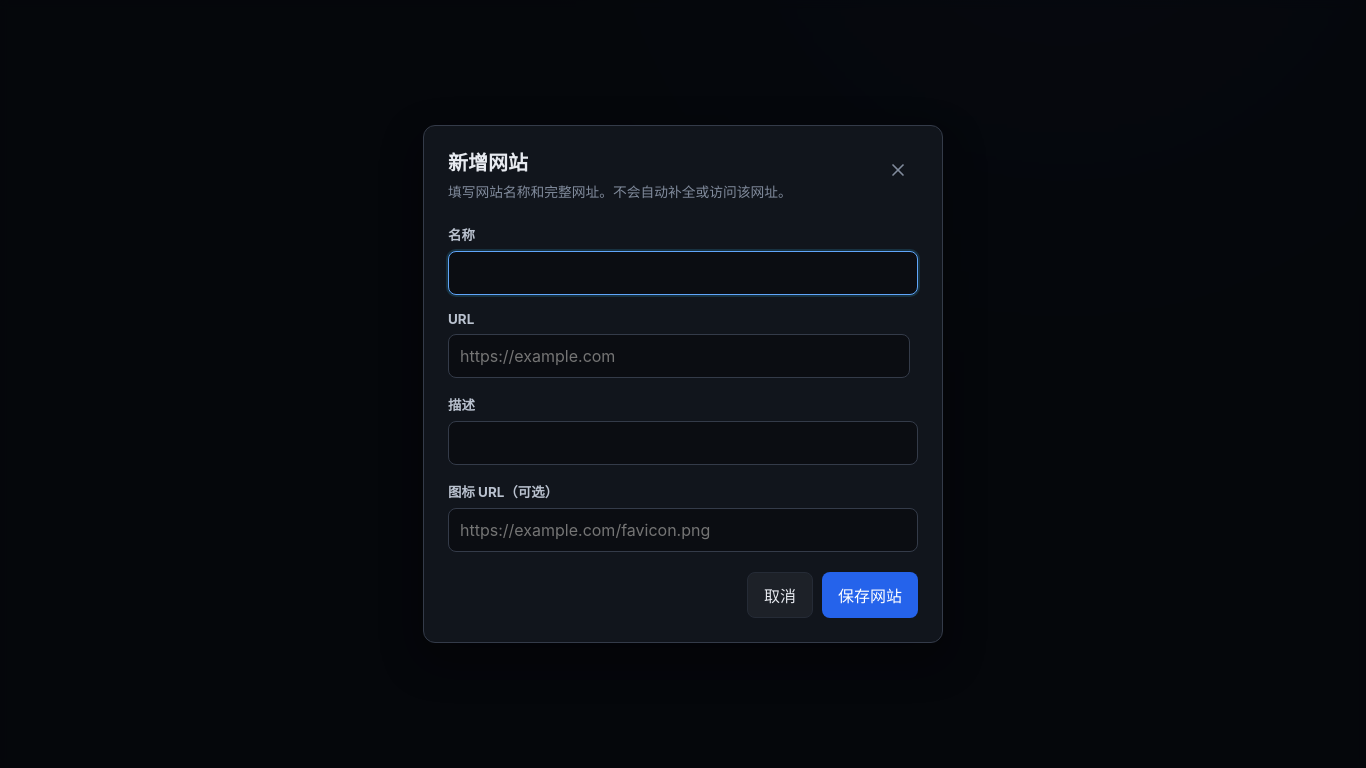
Scenario: LinkEditorDialog › rejects a non-http URL without silently rewriting it: javascript:alert(1)
This screenshot has width=1366, height=768.
Type "Example" into the field labelled "名称" at {"x": 683, "y": 273}, box [448,251,918,295]
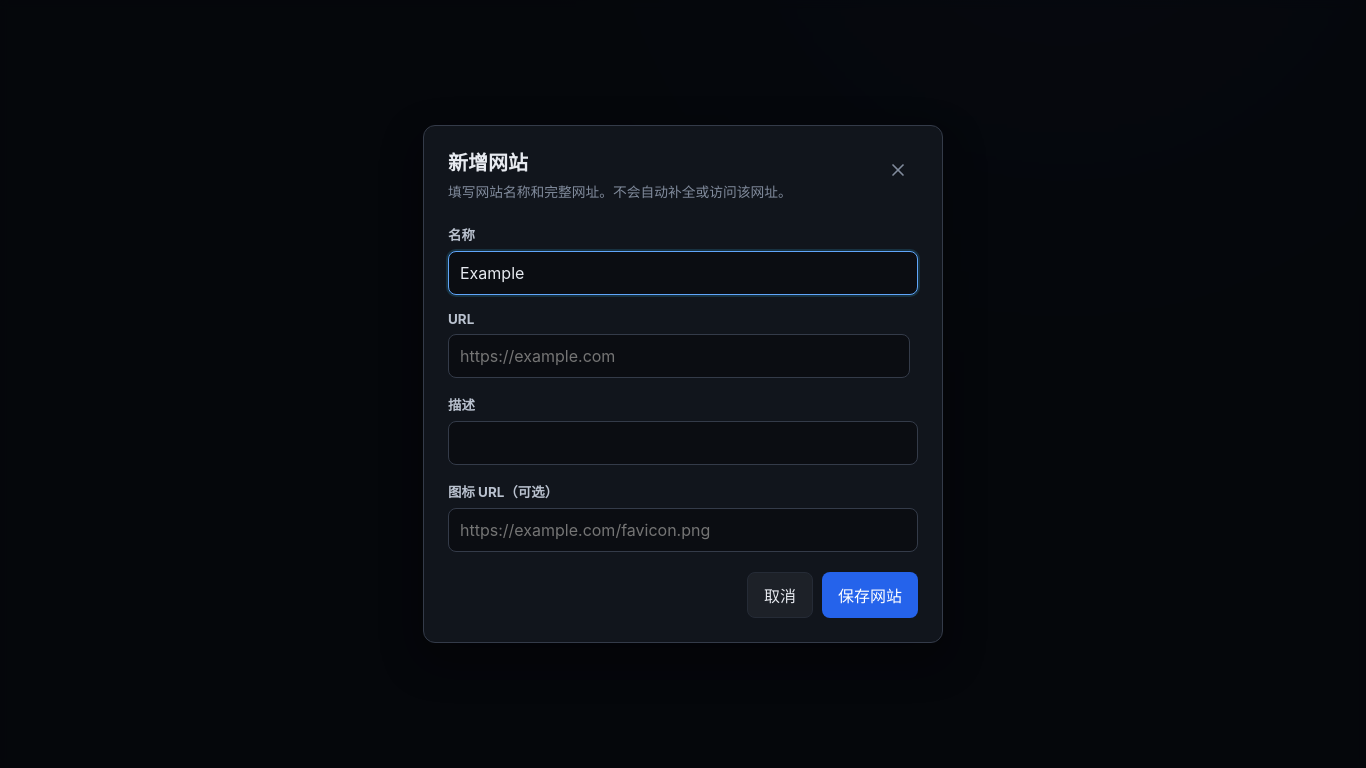
Type "javascript:alert(1)" into the field labelled "URL" at {"x": 679, "y": 356}, box [448,334,910,378]
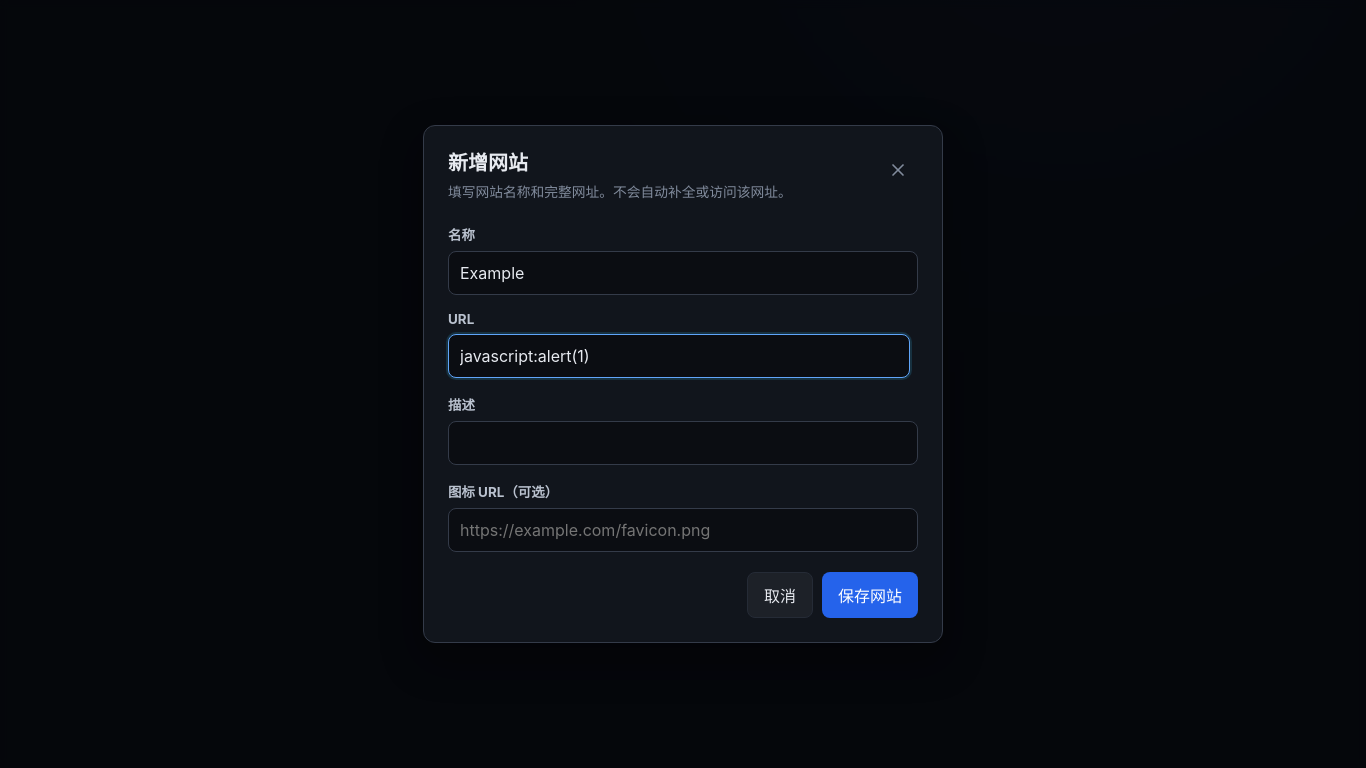
Click the button "保存网站" at {"x": 870, "y": 595}, box [822,572,918,618]
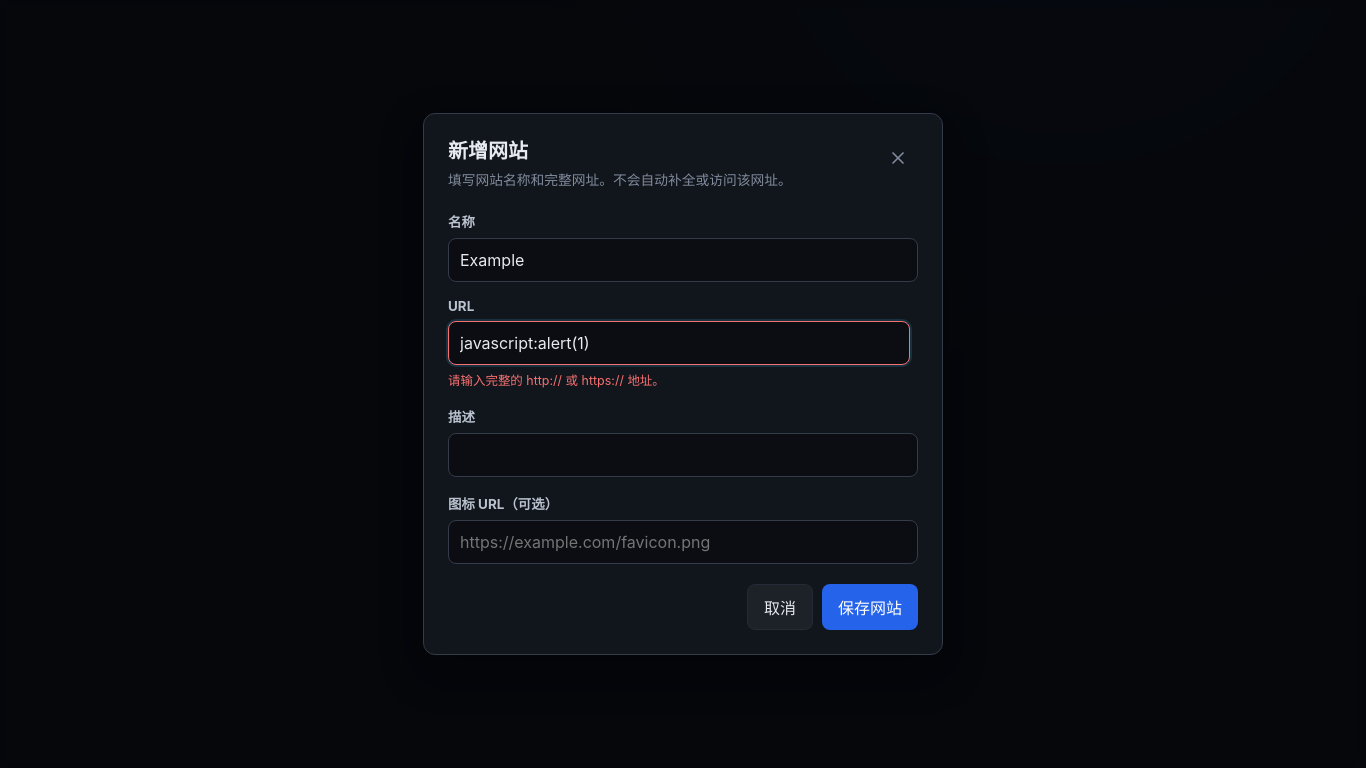
Now the text "请输入完整的 http:// 或 https:// 地址。" is shown, box [448,373,665,388]
